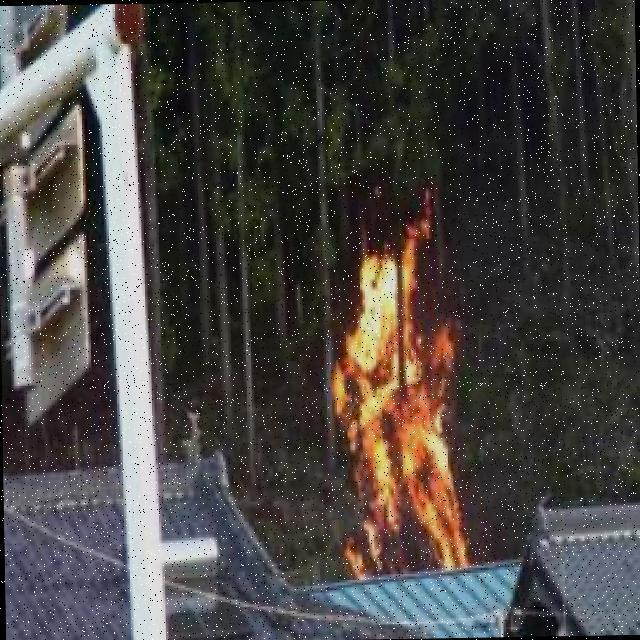Fire: (322, 205, 477, 581)
